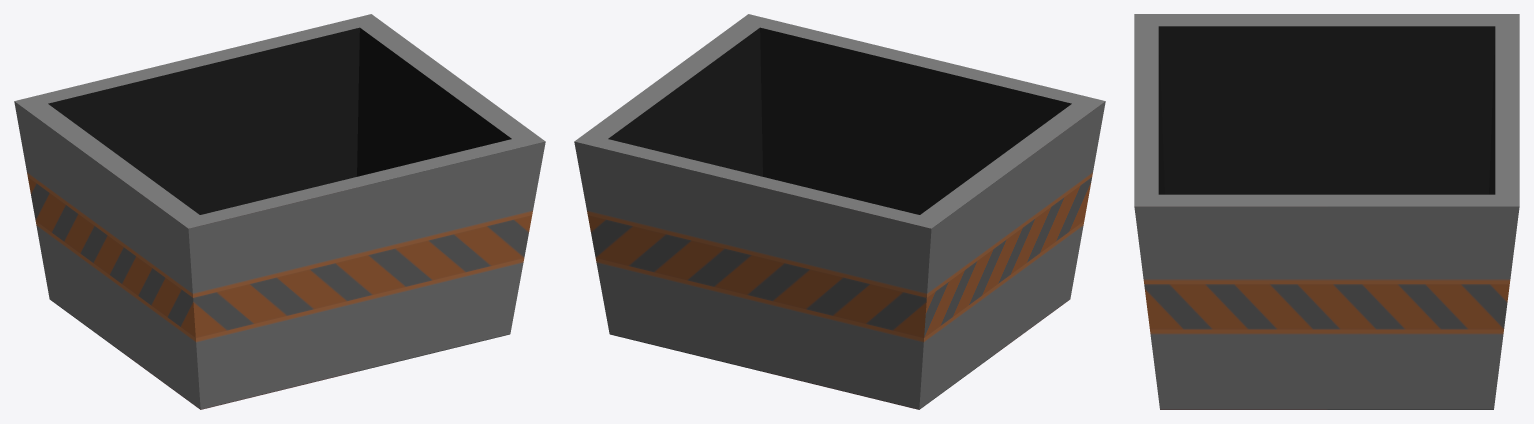
File: Bin.obj
The picture shows the model from 3 angles, left to right: view 1: azimuth 30°, elevation 25°; view 2: azimuth 150°, elevation 25°; view 3: azimuth 270°, elevation 25°; orthographic projection. The views are drawn at different scales.
Visible parts, largest first — view 1: Bin_Cube; view 2: Bin_Cube; view 3: Bin_Cube.
Part boxes in pixels (left/top/right/bottom): Bin_Cube: left=14, top=14, right=545, bottom=409; Bin_Cube: left=574, top=14, right=1105, bottom=409; Bin_Cube: left=1134, top=14, right=1519, bottom=409.
Size of the model in its own units: 1.91 by 1 by 1.62.
